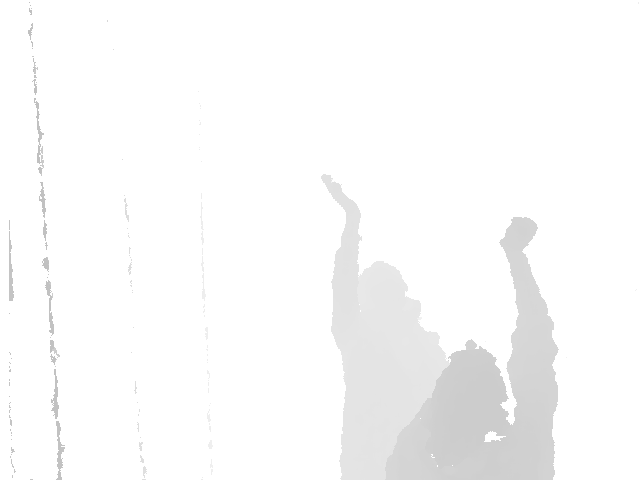hand: (319, 174, 362, 219), (498, 216, 539, 253)
head: (439, 342, 504, 434), (358, 261, 408, 314)
person: (382, 216, 559, 479), (319, 174, 451, 480)
